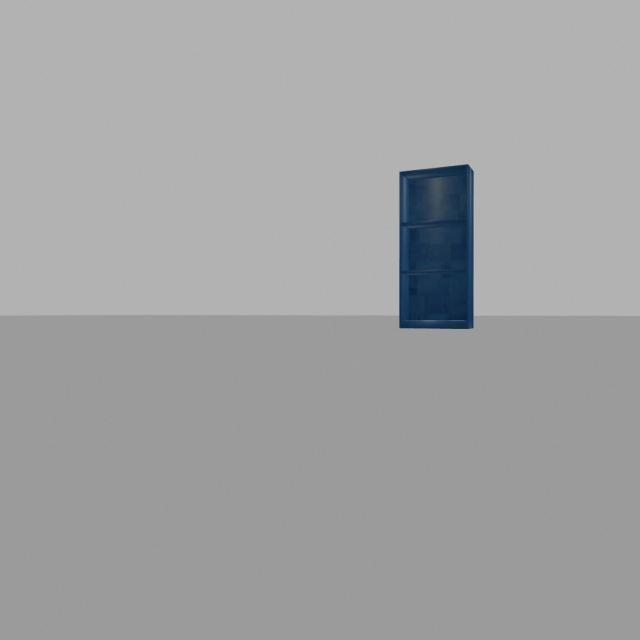shelf: (387, 149, 480, 350)
